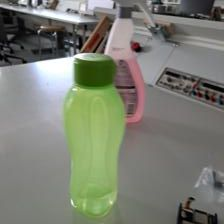bottle: (59, 49, 132, 218)
